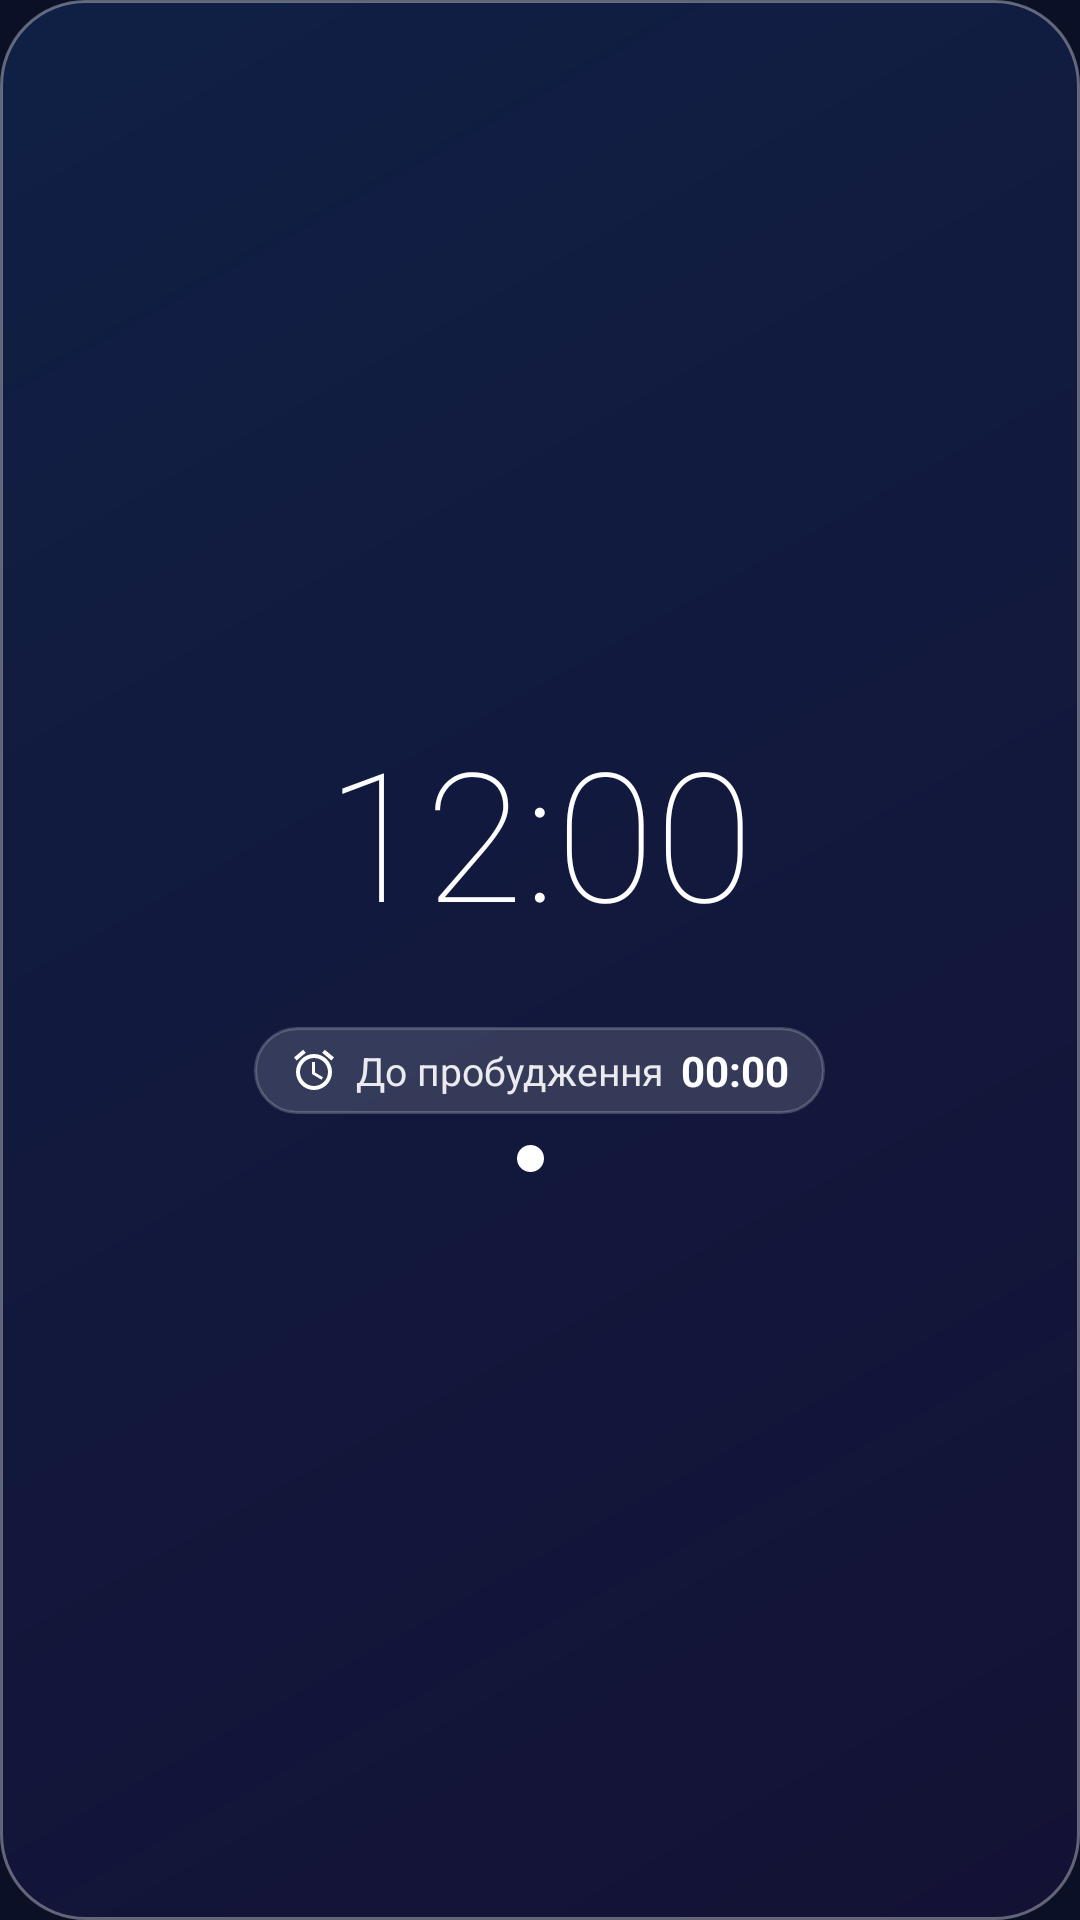

Icons on this 1080 × 1920 Android screen, each with the point to tap as (x,y):
alarm: (314,1070)
